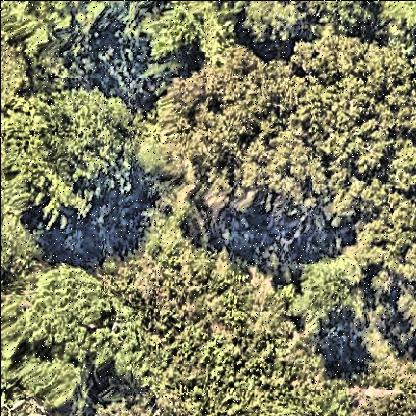tree-top: (131, 52, 309, 220), (2, 264, 133, 408), (15, 85, 142, 221), (302, 39, 416, 167), (341, 176, 416, 290), (6, 2, 110, 73), (295, 253, 365, 332), (124, 10, 196, 74), (241, 2, 315, 54)
